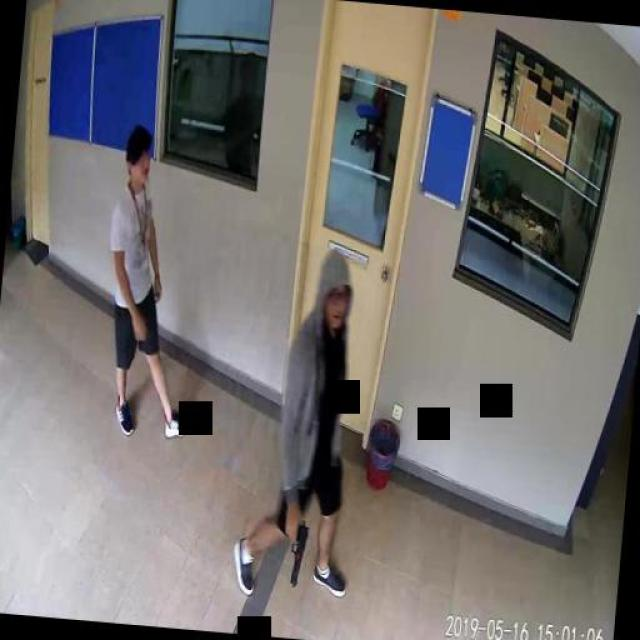gun: (281, 516, 309, 586)
